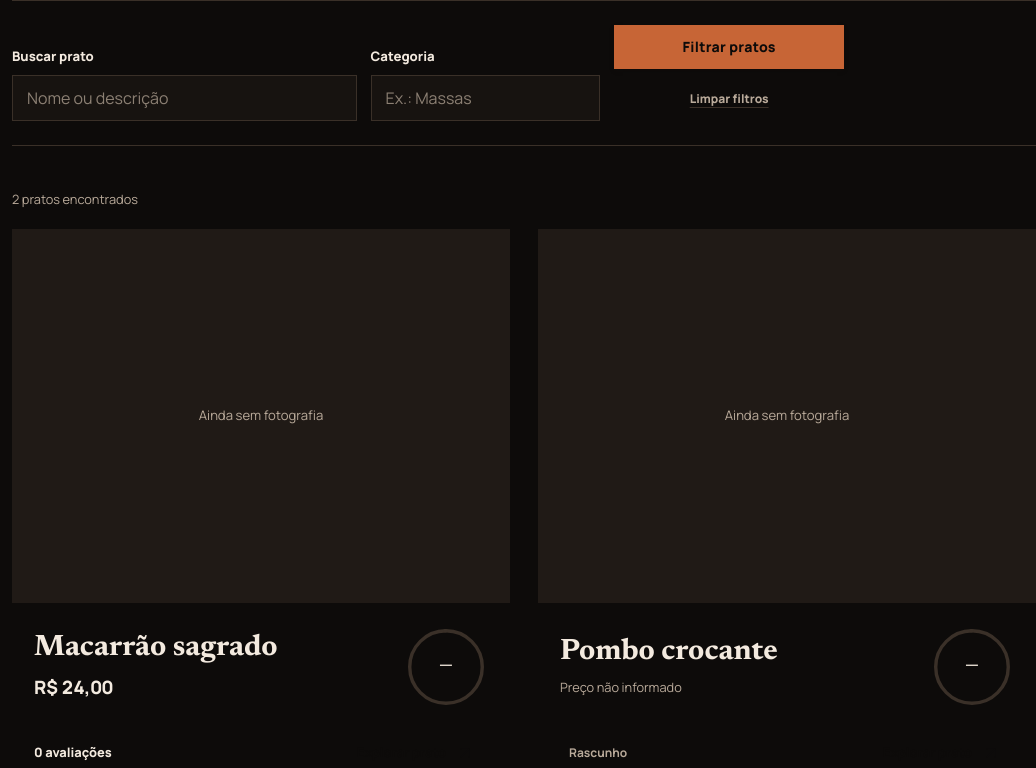
Test: MenuCatalog › combines text and category filters and lets the visitor reset an empty result
Type "macarrao" into the search field labelled "Buscar prato" at (184, 98), box [12,75,357,121]
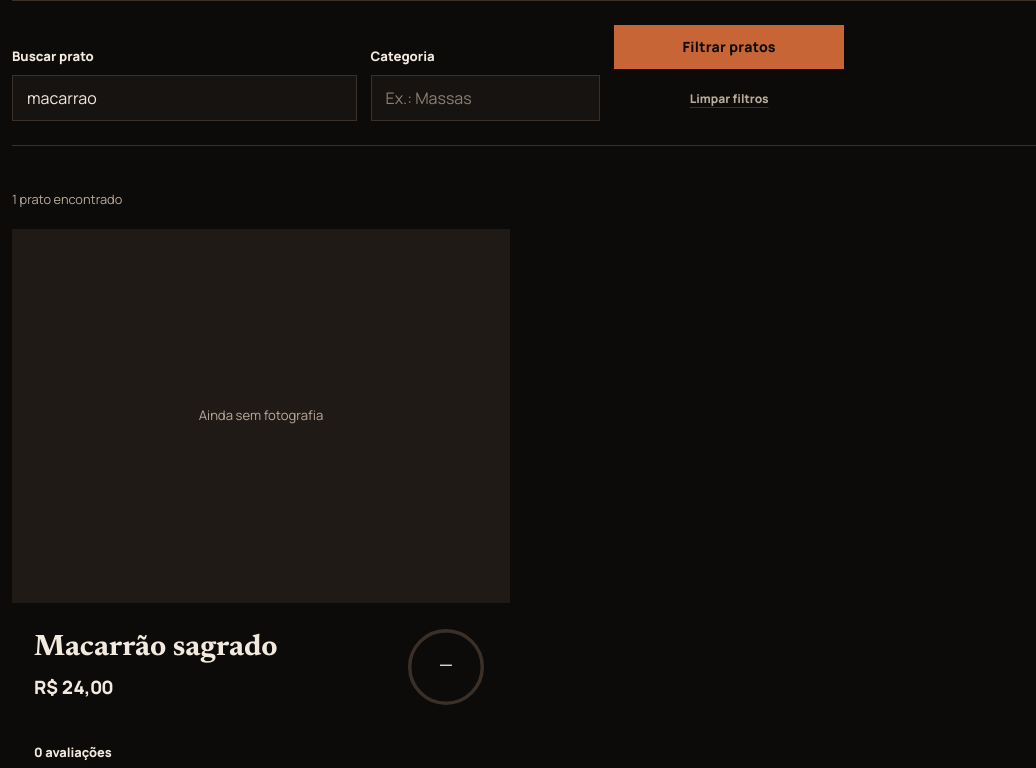
expect the heading "Macarrão sagrado" is shown: met, box [34,633,278,663]
expect the link "Pombo crocante" is gone: met
Type "Aves" into the field labelled "Categoria" at (485, 98), box [371,75,600,121]
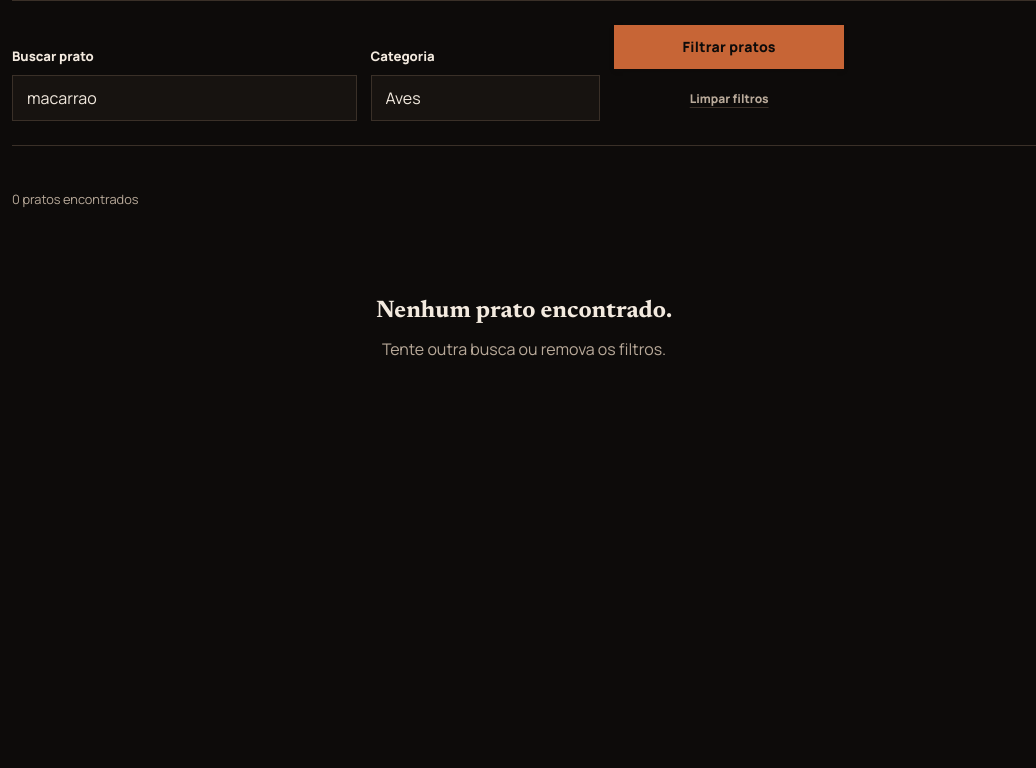
expect the heading "Nenhum prato encontrado." is shown: met, box [376,299,672,323]
Click the button "Limpar filtros" at (729, 99), box [614,77,844,121]
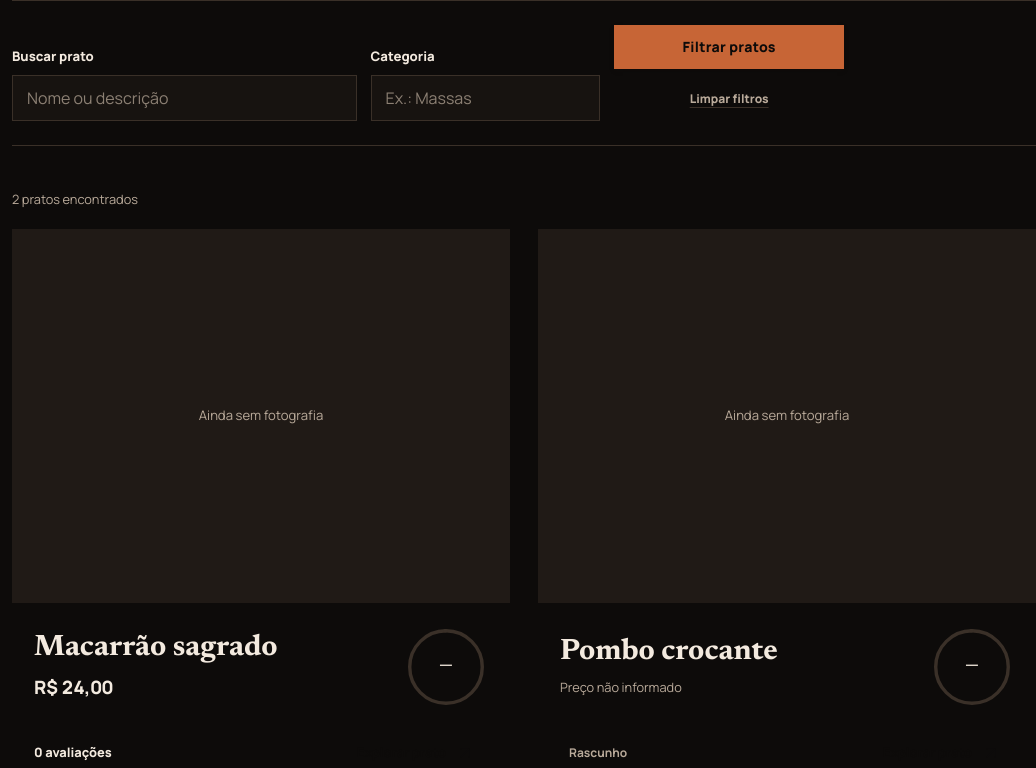
expect the heading "Pombo crocante" is shown: met, box [560,637,778,667]
